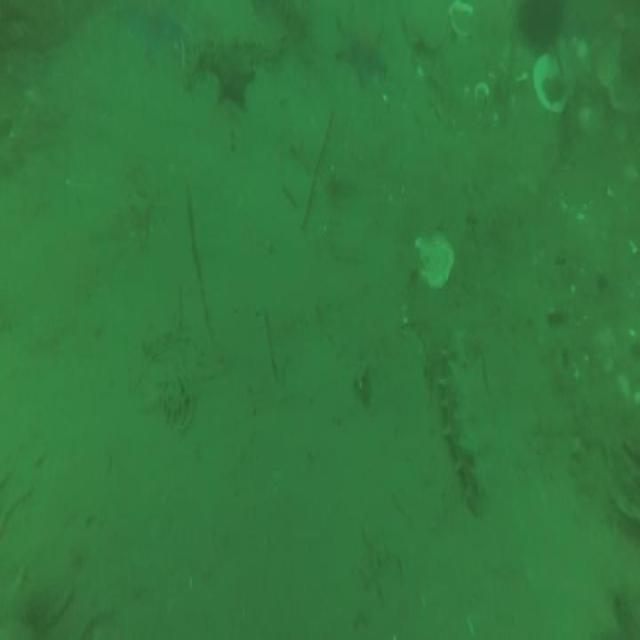echinus: (520, 0, 561, 49)
holothurian: (440, 325, 489, 520)
scallop: (415, 226, 457, 288)
starfish: (340, 20, 386, 86), (212, 46, 255, 107)
